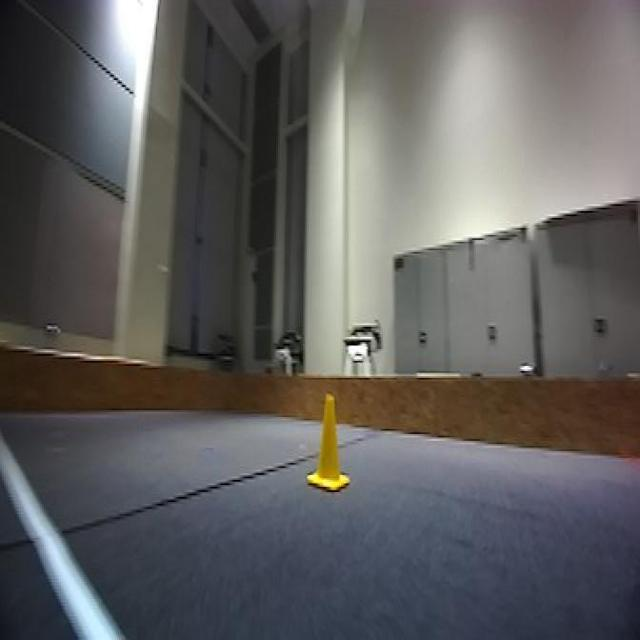frc_cone: (307, 393, 352, 499)
